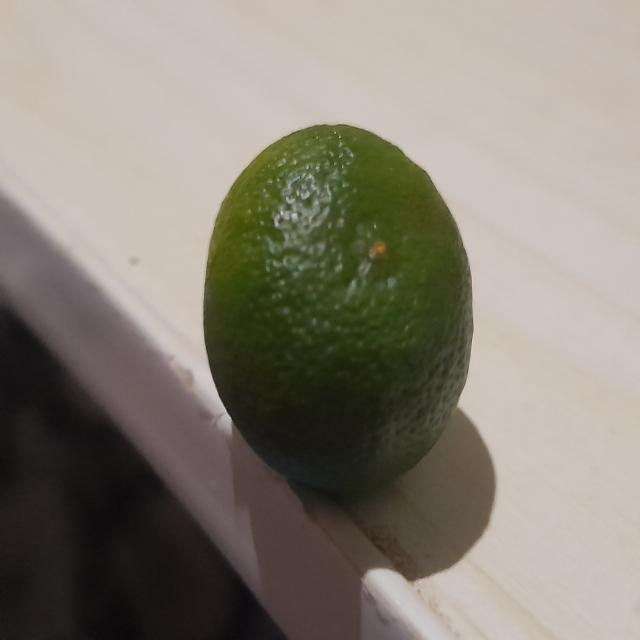heathy: (205, 124, 475, 508)
